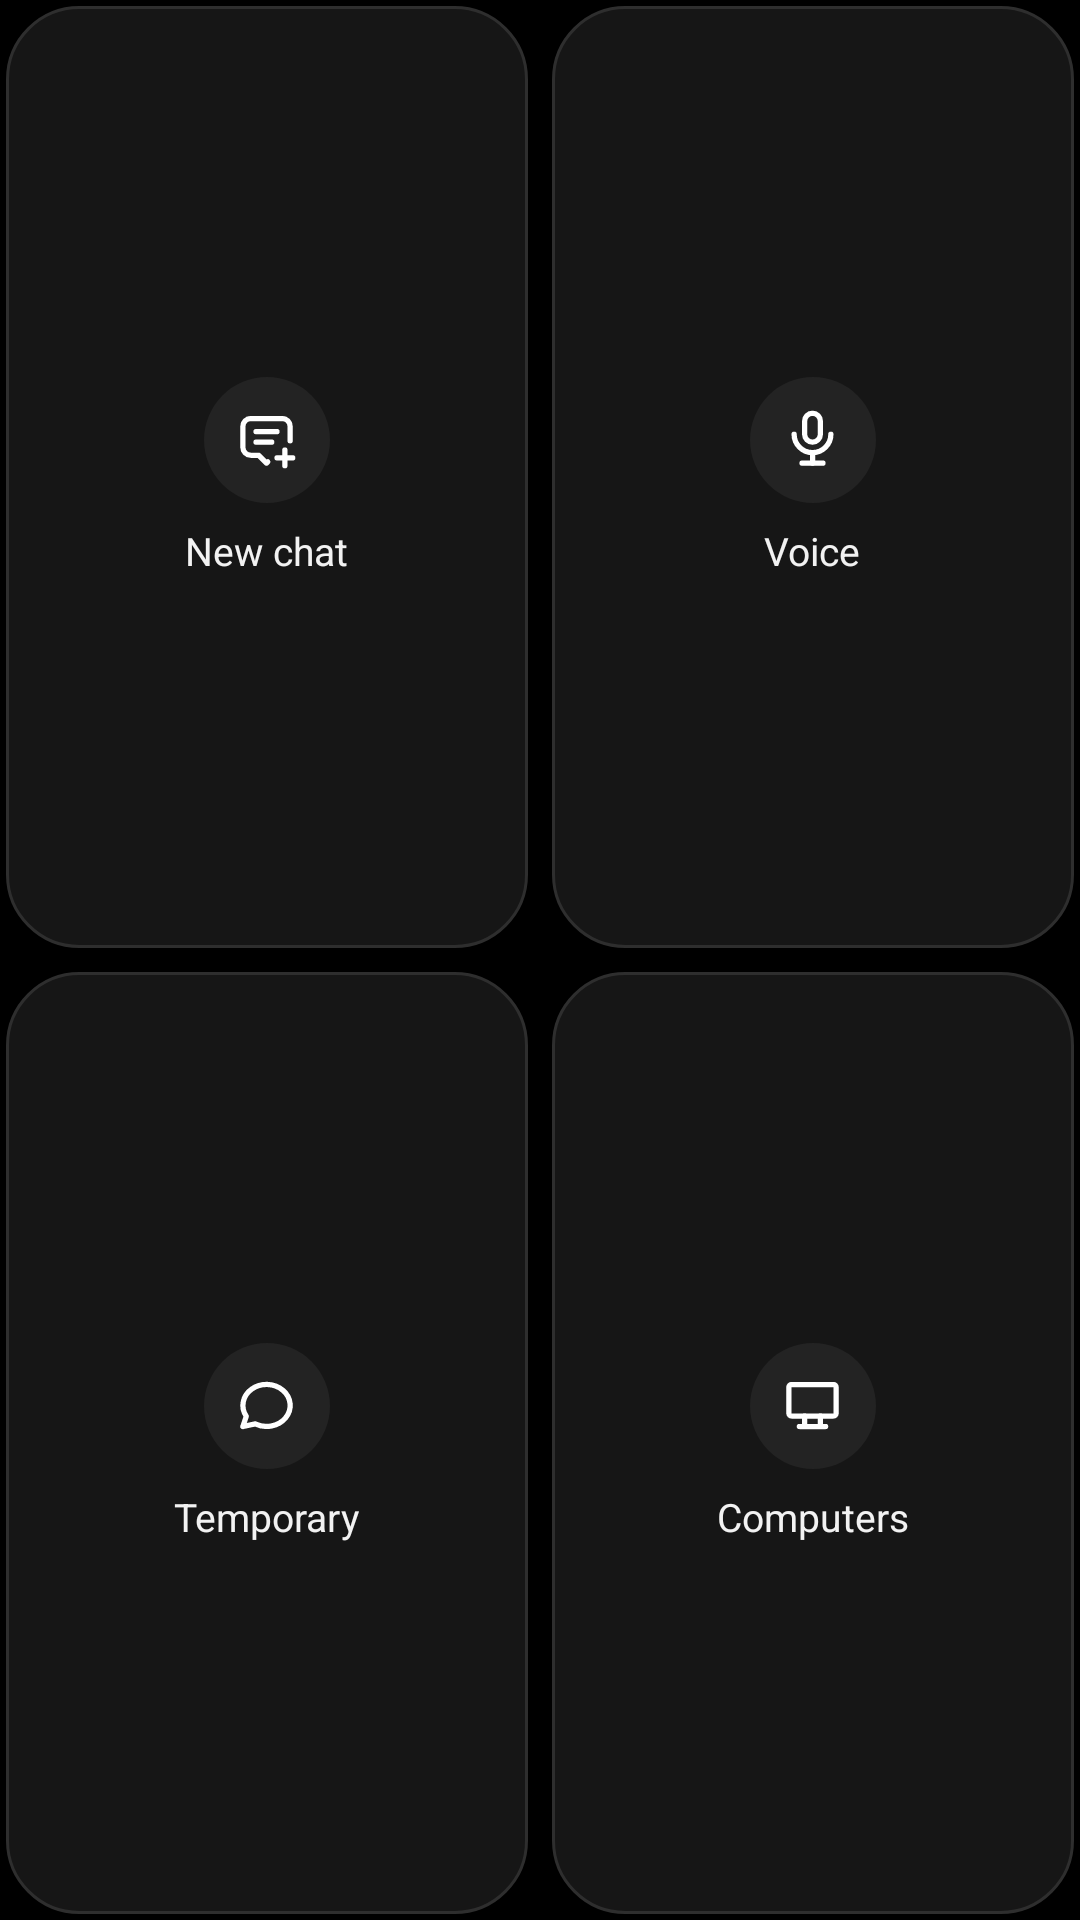

Icons on this 1080px×1920px Android screen, each with its box as box=[x1, y1, x2, y2]:
chat plus: box=[240, 416, 296, 469]
desktop: box=[786, 1382, 839, 1430]
message circle: box=[240, 1381, 293, 1430]
microphone: box=[791, 410, 834, 466]
